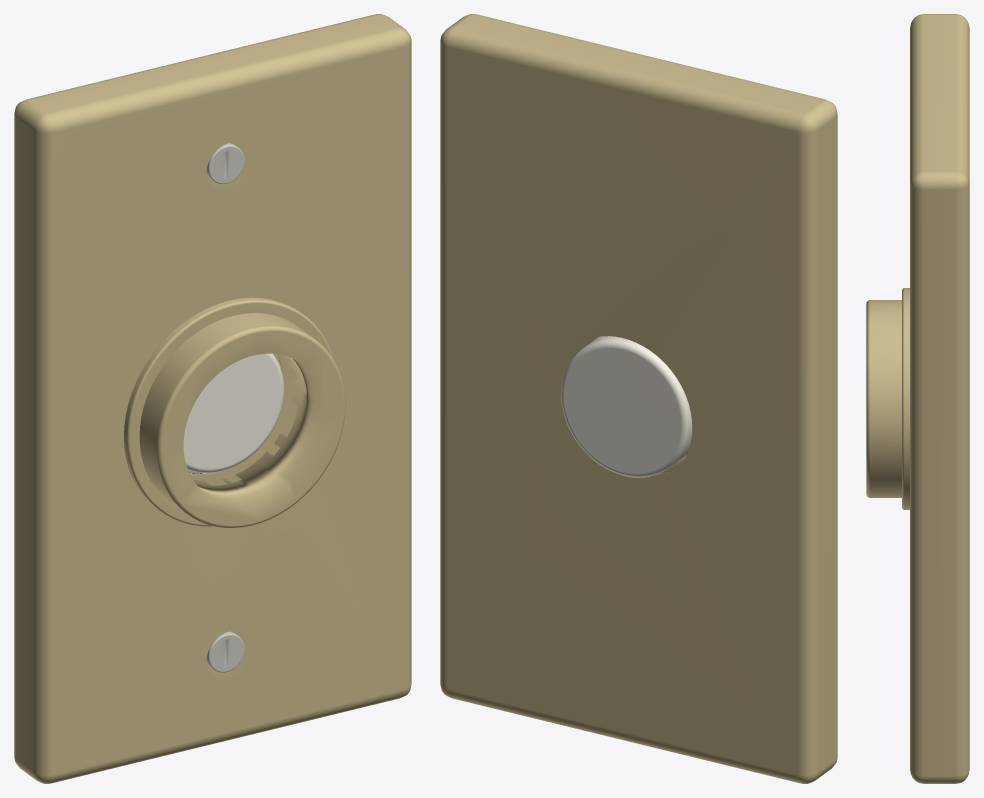
The model's file is lift_call_plate.glb.
3 renders of one model, left to right at view 1: azimuth 30°, elevation 25°; view 2: azimuth 150°, elevation 25°; view 3: azimuth 270°, elevation 25°, orthographic. The views are drawn at different scales.
Parts seen in each view (by area): view 1: CallPlate, ButtonCap, CallFixings; view 2: CallPlate, ButtonCap; view 3: CallPlate.
Boxes of the visible parts, <box> form: CallPlate: <box>14,14,411,783</box>; ButtonCap: <box>183,353,284,472</box>; CallFixings: <box>206,143,244,672</box>; CallPlate: <box>440,14,837,783</box>; ButtonCap: <box>561,336,692,477</box>; CallPlate: <box>866,14,969,783</box>.
Size of the model in its own units: 0.1 by 0.17 by 0.026.
